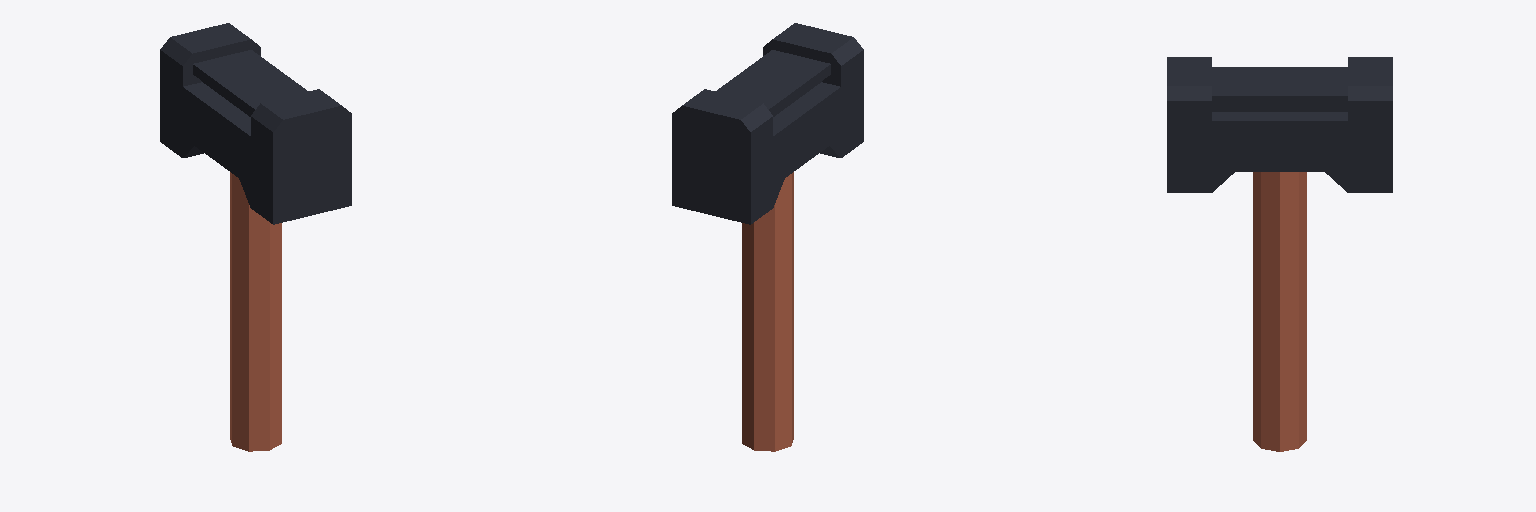
The model's file is Hammer1.obj.
3 renders of one model, left to right at view 1: azimuth 30°, elevation 25°; view 2: azimuth 150°, elevation 25°; view 3: azimuth 270°, elevation 25°, orthographic.
Parts seen in each view (by area): view 1: mergedBlocks; view 2: mergedBlocks; view 3: mergedBlocks.
Part boxes in pixels (bbox=[...]): mergedBlocks: bbox=[160, 23, 351, 451]; mergedBlocks: bbox=[672, 23, 863, 451]; mergedBlocks: bbox=[1167, 57, 1392, 451].
Bounding box in the file's own units: 0.4 × 1.8 × 1.